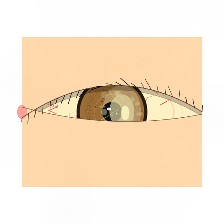corneal_ulcer: (95, 89, 149, 133)
